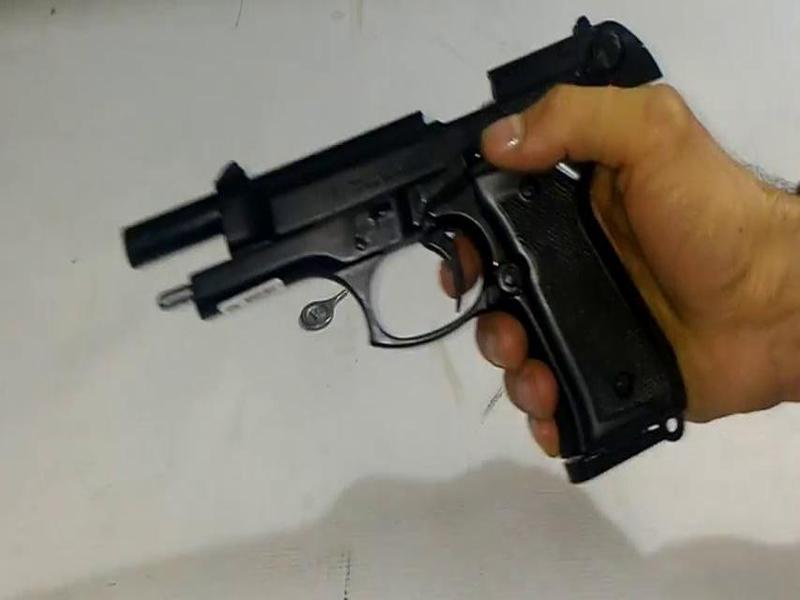Pistola: (87, 12, 725, 489)
